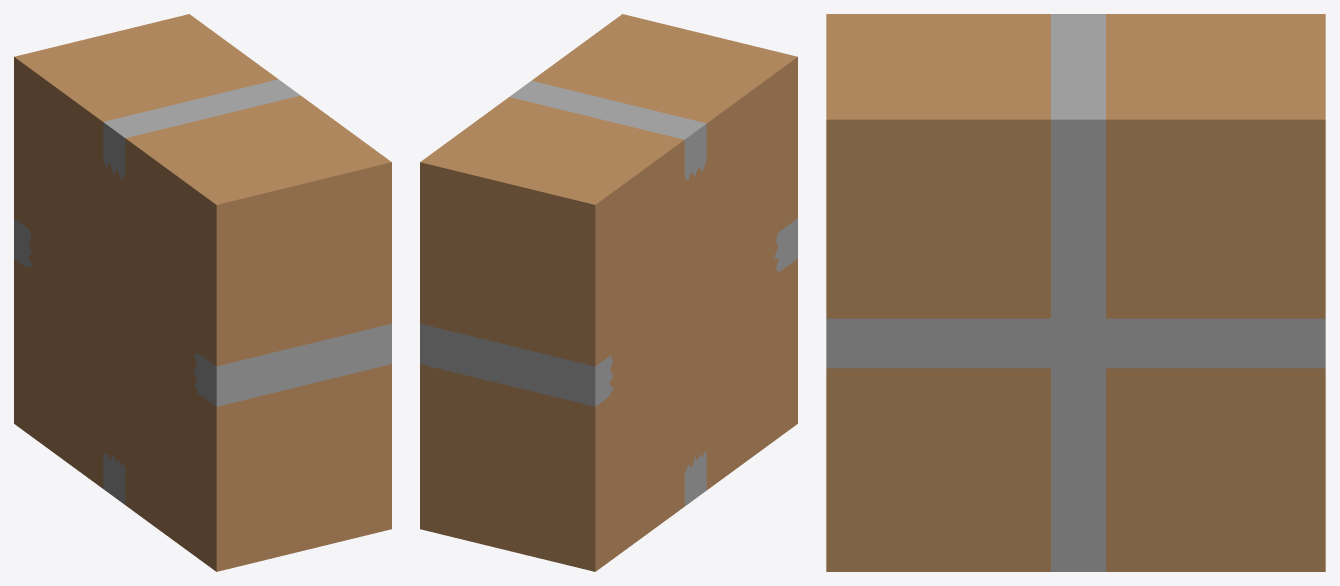
File: Square Box.glb
The picture shows the model from 3 angles, left to right: view 1: azimuth 30°, elevation 25°; view 2: azimuth 150°, elevation 25°; view 3: azimuth 270°, elevation 25°; orthographic projection. The views are drawn at different scales.
Visible parts, largest first — view 1: Prism; view 2: Prism; view 3: Prism.
Boxes of the visible parts, x1,y1,x2,y2 form: Prism: (14, 14, 391, 571); Prism: (420, 14, 797, 571); Prism: (826, 14, 1325, 571).
Bounding box in the file's own units: 1 × 2 × 2.
